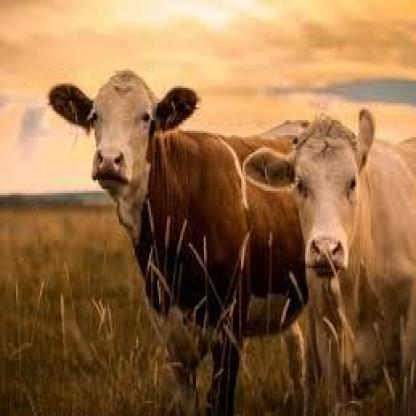cow: (46, 68, 313, 416), (241, 105, 416, 416)
